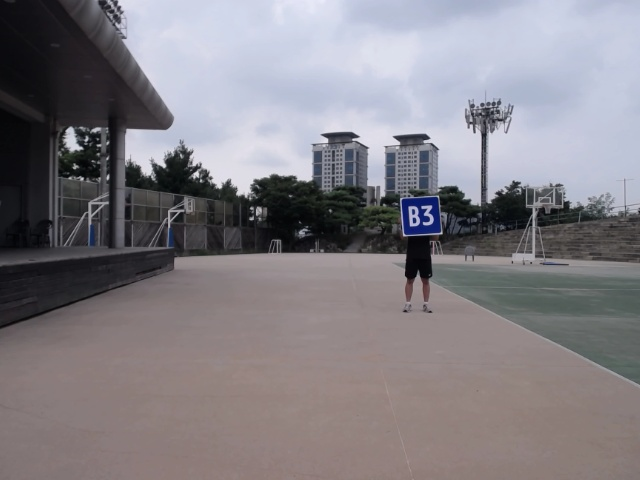delivery_b3: (399, 197, 443, 236)
